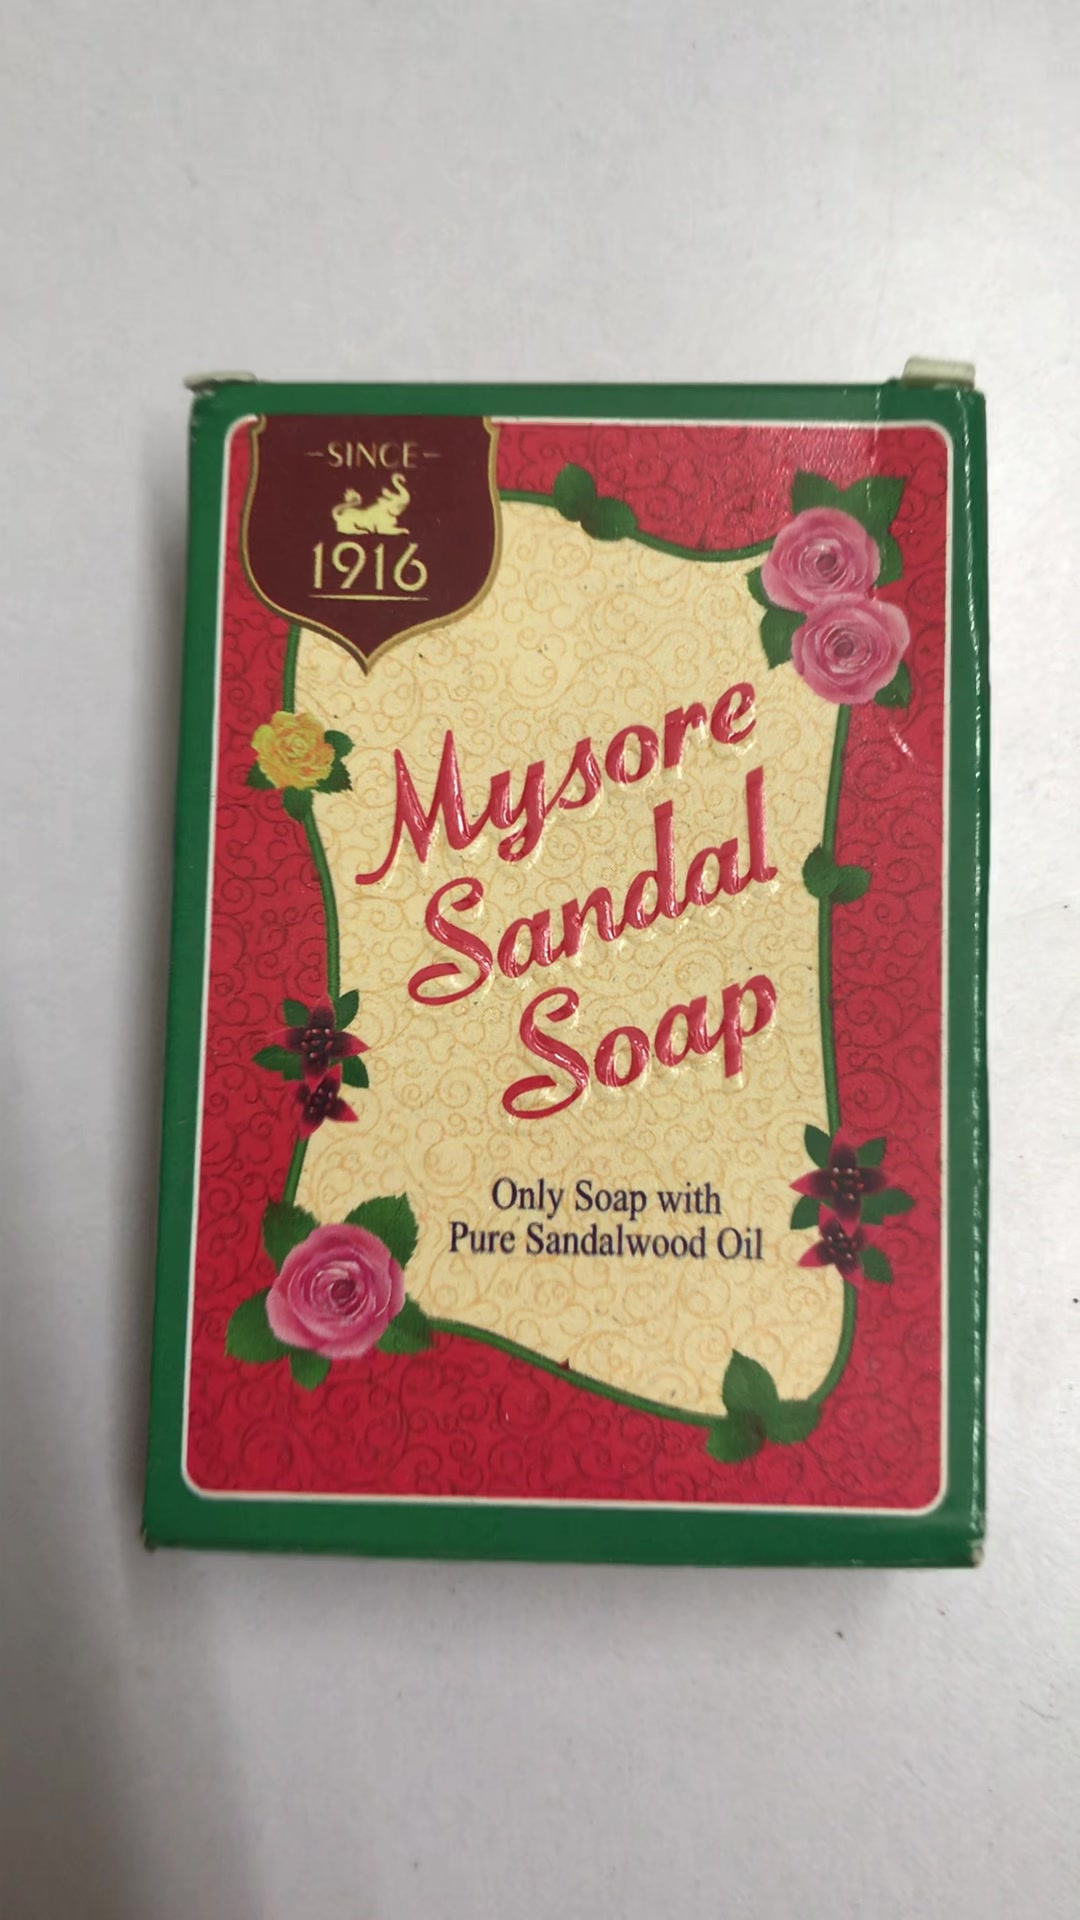mysore sandal soap: (156, 375, 986, 1569)
